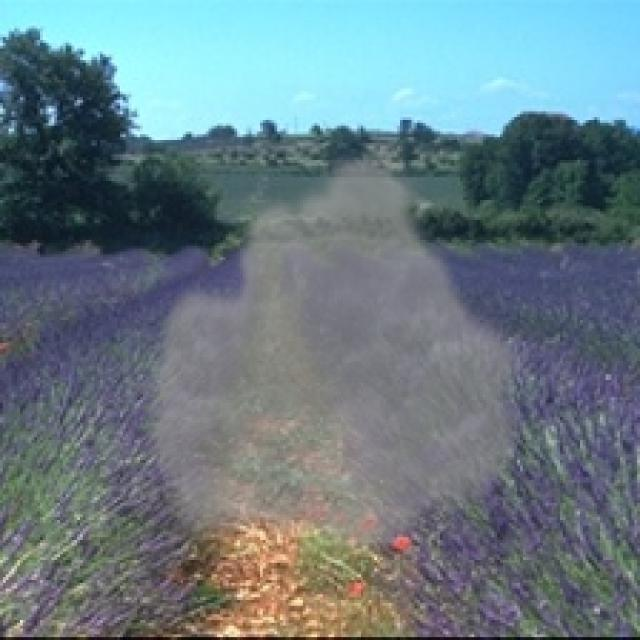smoke: (140, 140, 534, 554)
